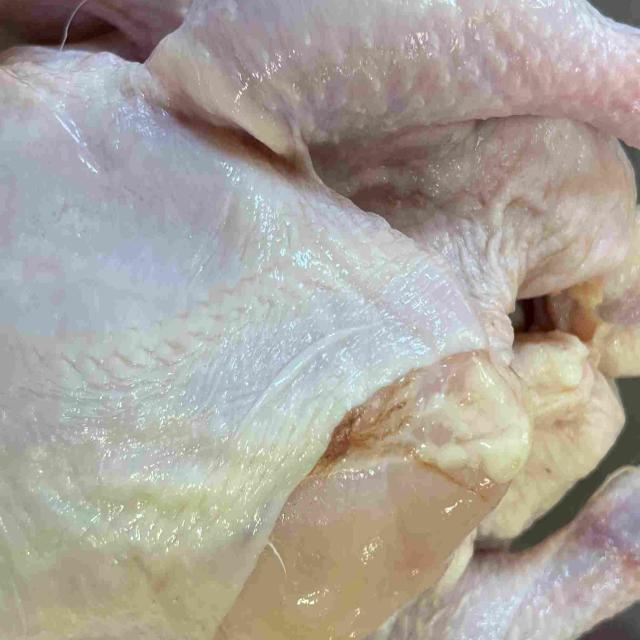breast: (0, 50, 526, 640)
leg: (156, 0, 640, 150), (348, 475, 640, 640)
